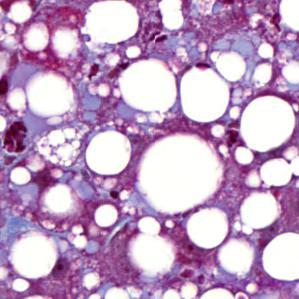steatosis: (87, 132, 136, 175)
